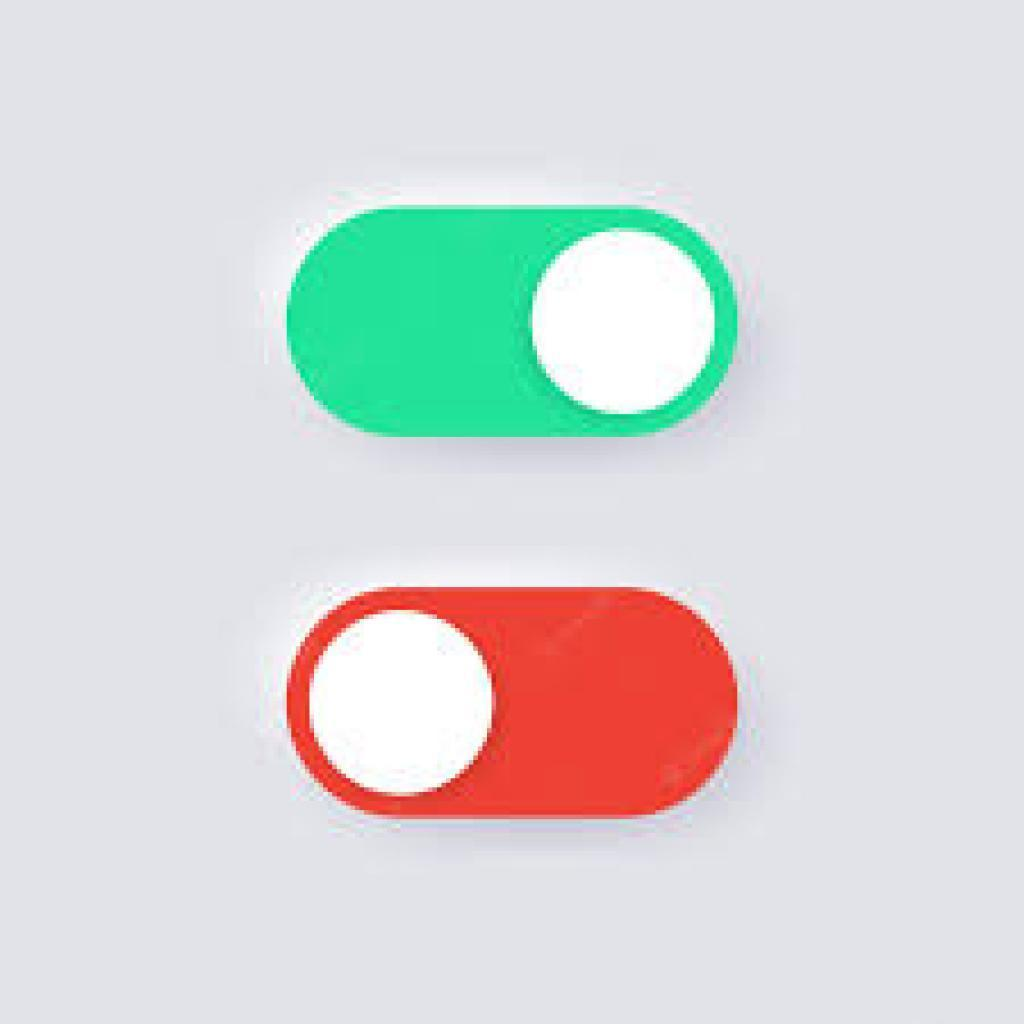switch: (288, 586, 741, 819), (285, 208, 740, 434)
